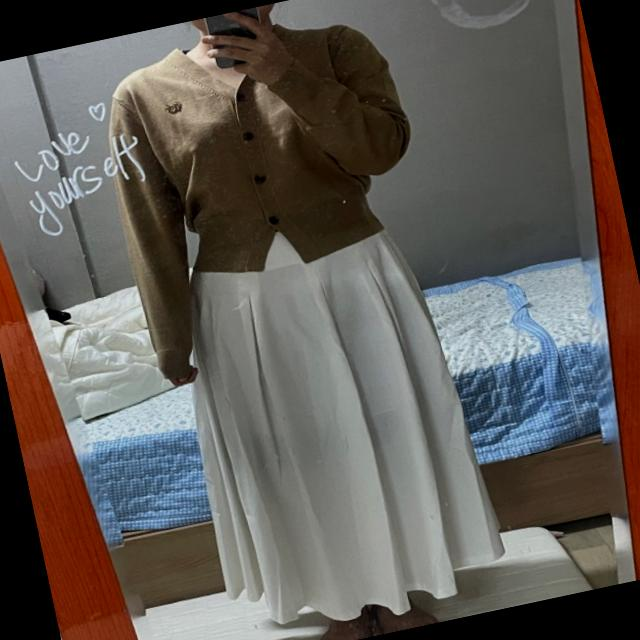cardigan: (90, 0, 453, 380)
skirt: (155, 196, 516, 640)
